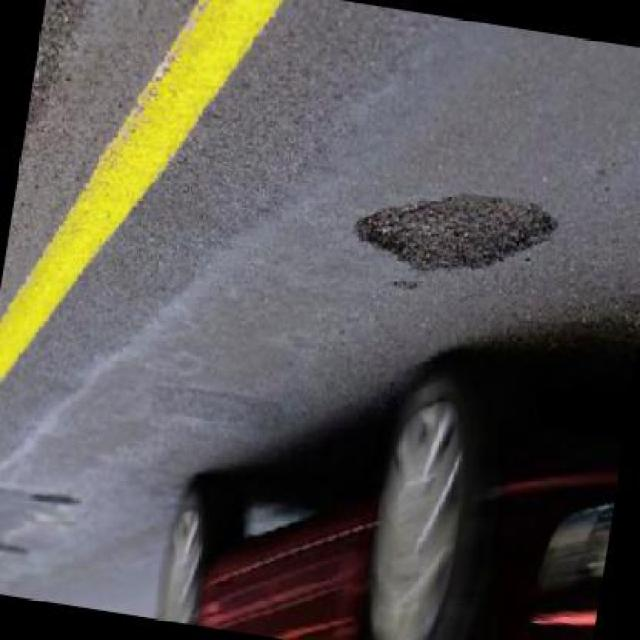pothole: (346, 176, 560, 296), (27, 488, 82, 515), (388, 275, 418, 296)
